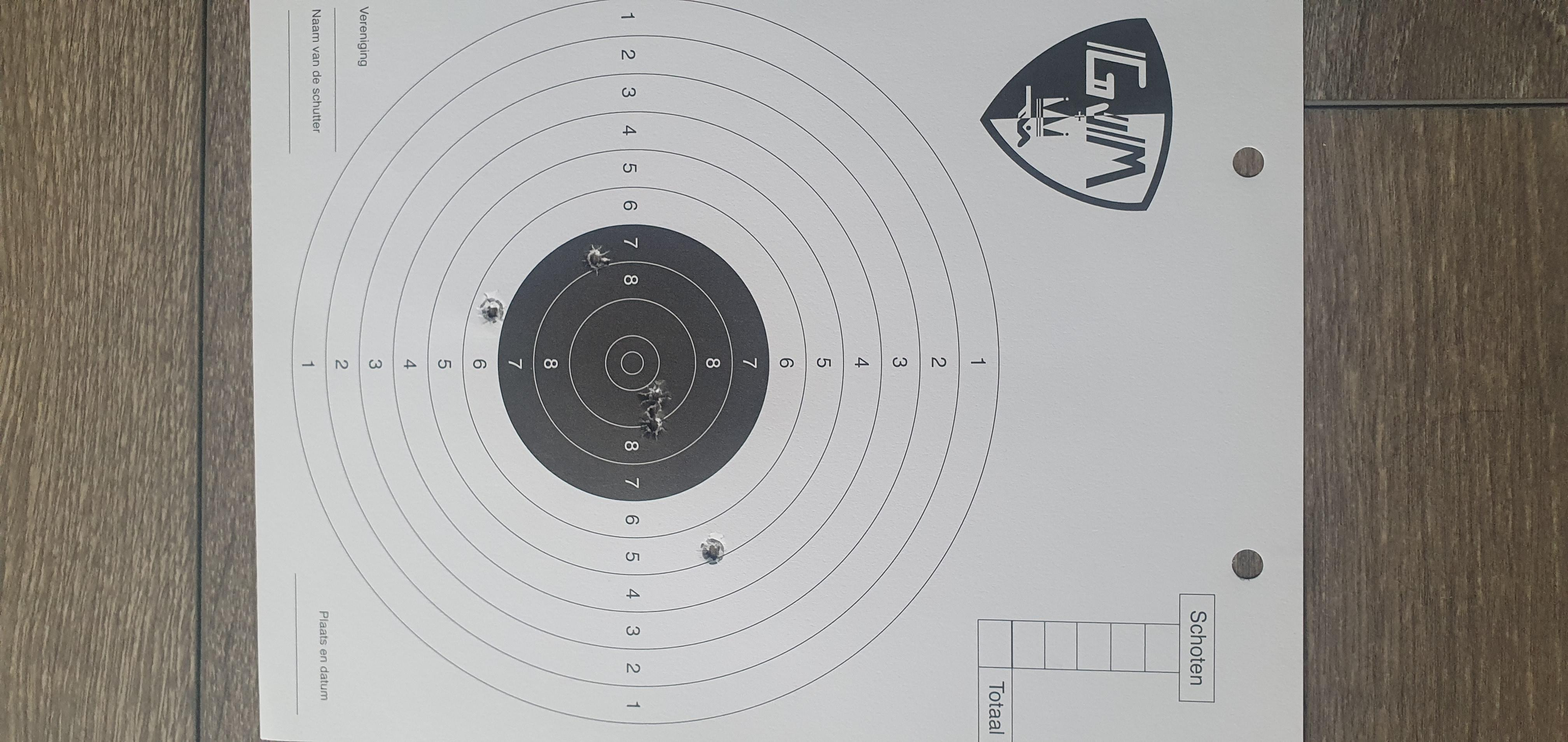hole: (360, 329, 436, 345), (983, 275, 1052, 291), (876, 225, 947, 240), (703, 302, 768, 318), (636, 303, 696, 316)
